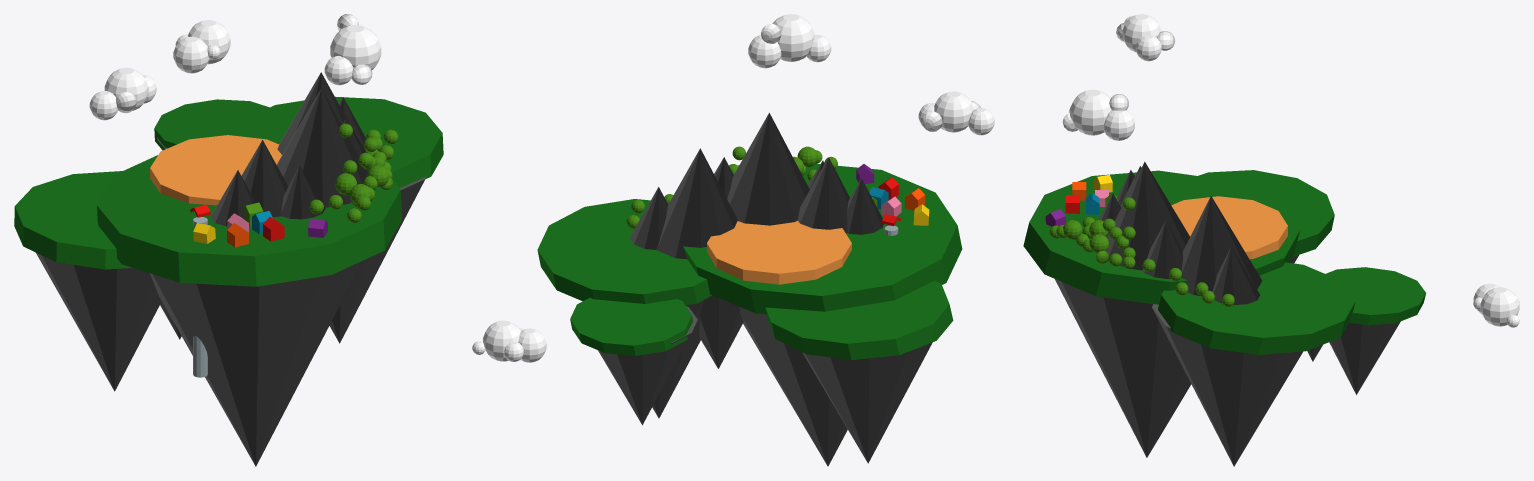
File: Floaty_Island.fbx
3 views of the same model, side by side, from view 1: azimuth 30°, elevation 25°; view 2: azimuth 150°, elevation 25°; view 3: azimuth 270°, elevation 25° (orthographic). The views are drawn at different scales.
Parts seen in each view (by area): view 1: Node-Mesh, Node-Mesh_1, Node-Mesh_4, Node-Mesh_3, Node-Mesh_2, Node-Mesh_11, Node-Mesh_7; view 2: Node-Mesh_1, Node-Mesh, Node-Mesh_4, Node-Mesh_3, Node-Mesh_2; view 3: Node-Mesh, Node-Mesh_1, Node-Mesh_4, Node-Mesh_3, Node-Mesh_2.
Part boxes in pixels (left/top/right/bottom): Node-Mesh: left=36, top=72, right=426, bottom=466; Node-Mesh_1: left=14, top=96, right=443, bottom=286; Node-Mesh_4: left=89, top=14, right=381, bottom=120; Node-Mesh_3: left=150, top=135, right=281, bottom=205; Node-Mesh_2: left=243, top=123, right=398, bottom=226; Node-Mesh_11: left=193, top=217, right=207, bottom=377; Node-Mesh_7: left=190, top=204, right=284, bottom=241; Node-Mesh_1: left=537, top=163, right=962, bottom=360; Node-Mesh: left=598, top=112, right=932, bottom=466; Node-Mesh_4: left=472, top=14, right=994, bottom=362; Node-Mesh_3: left=707, top=220, right=851, bottom=284; Node-Mesh_2: left=626, top=146, right=877, bottom=228; Node-Mesh: left=1055, top=161, right=1400, bottom=466; Node-Mesh_1: left=1023, top=170, right=1425, bottom=354; Node-Mesh_4: left=1062, top=14, right=1519, bottom=327; Node-Mesh_3: left=1171, top=196, right=1287, bottom=259; Node-Mesh_2: left=1049, top=193, right=1234, bottom=306.
Size of the model in its own units: 0.6373 by 0.6617 by 0.7496.
